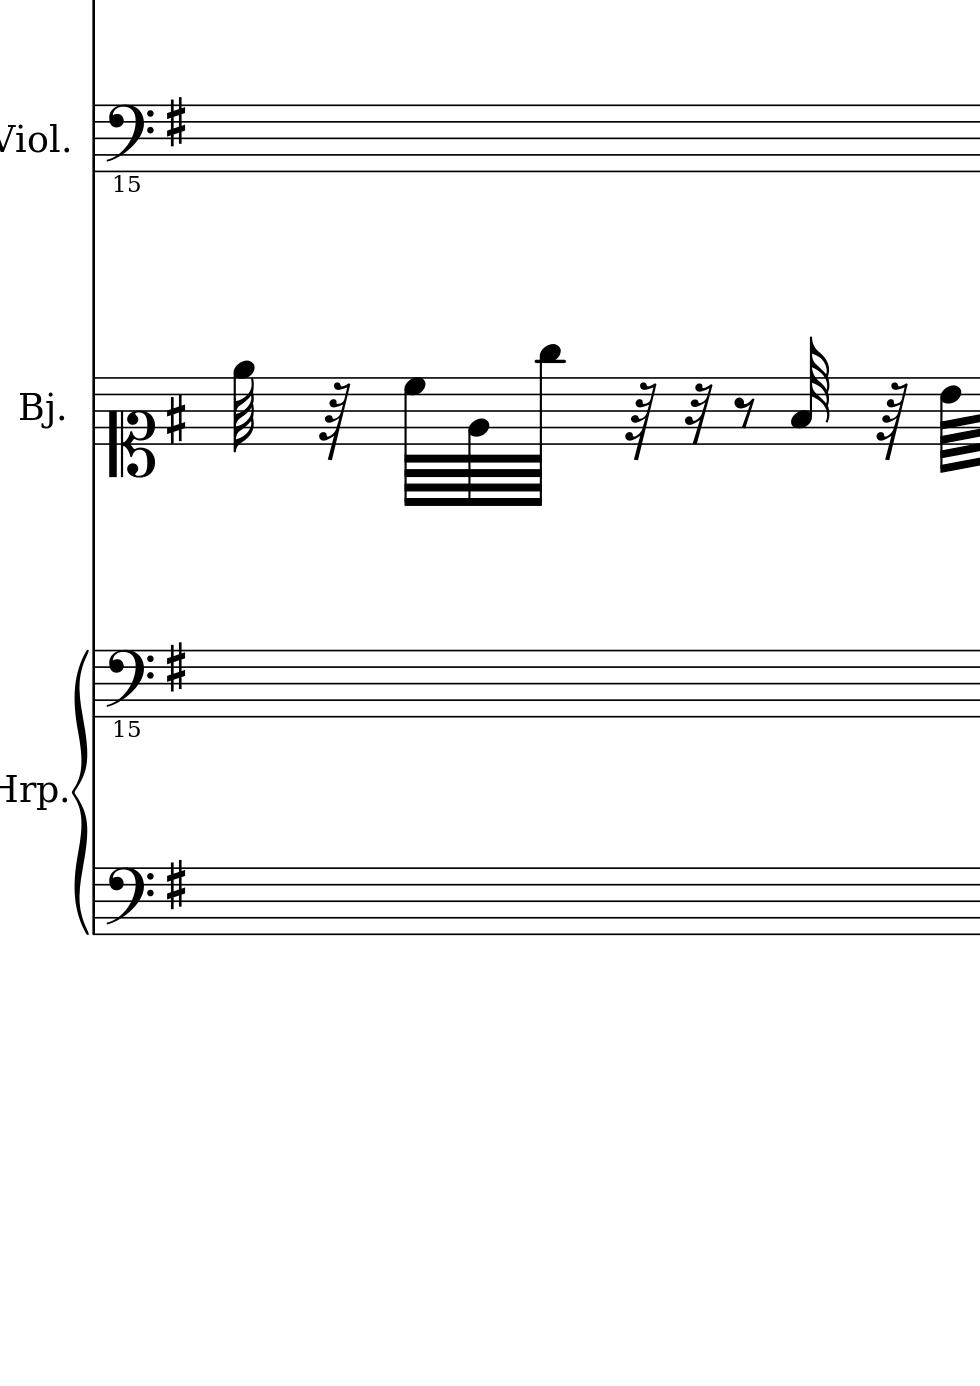64_11: (528, 343, 565, 509)
64_2: (465, 373, 494, 510)
64_3: (788, 335, 828, 448)
64_6: (937, 376, 962, 478)
64_7: (402, 374, 428, 509)
64_9: (231, 358, 256, 457)
Brace: (70, 643, 90, 935)
DLower_Fclef: (104, 646, 157, 748), (104, 101, 155, 200)
Fclef: (102, 865, 155, 935)
Rests32: (684, 382, 713, 449)
Rests64: (875, 380, 909, 463), (318, 379, 351, 464), (624, 381, 658, 462)
Rests8: (732, 394, 755, 431)
Sharp: (162, 857, 190, 913), (162, 641, 189, 695), (162, 94, 188, 150), (163, 392, 188, 448)
Single_barline: (86, 378, 102, 446), (88, 869, 102, 935), (88, 105, 101, 173), (88, 650, 101, 717)
Soprano_Cclef: (105, 373, 157, 480)
